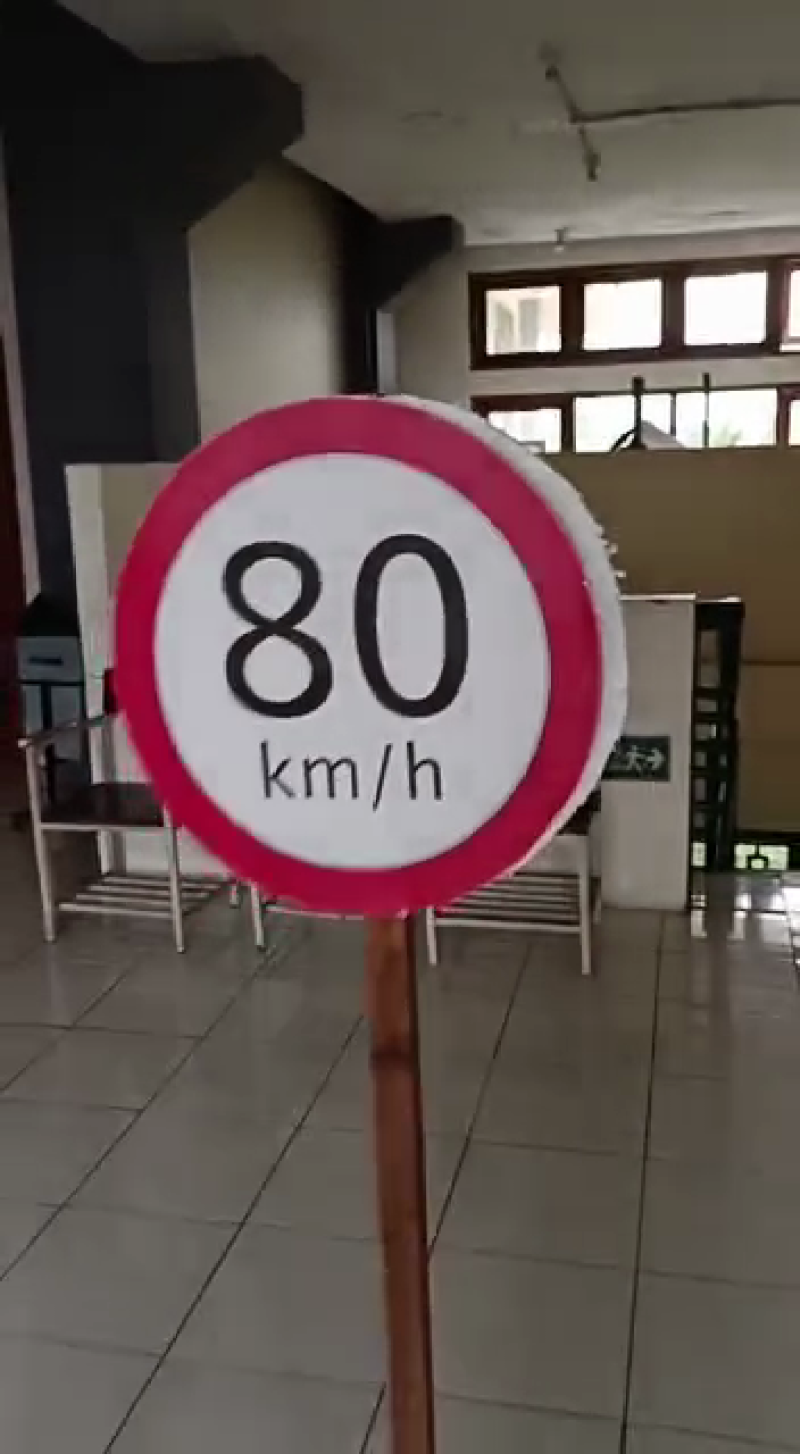batas maksimal 80kmperjam: (95, 389, 620, 922)
